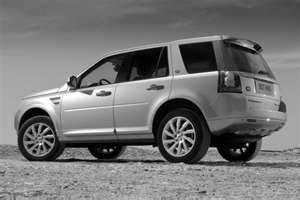car: (16, 37, 289, 165)
